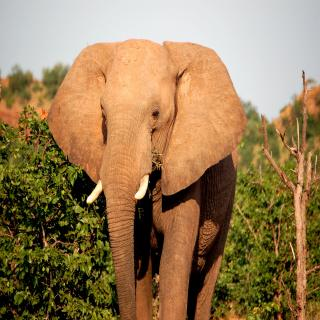Elephant: (46, 30, 258, 320)
